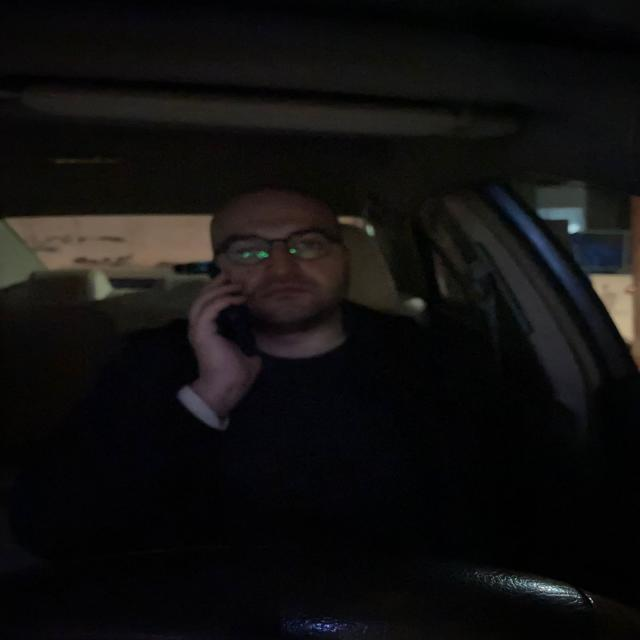mobile: (222, 301, 265, 367)
person: (206, 185, 359, 334)
